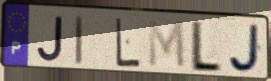I: (74, 14, 85, 68)
J: (227, 23, 263, 75), (35, 15, 65, 64)
L: (188, 20, 224, 75), (114, 16, 142, 69)
M: (147, 18, 188, 71)
